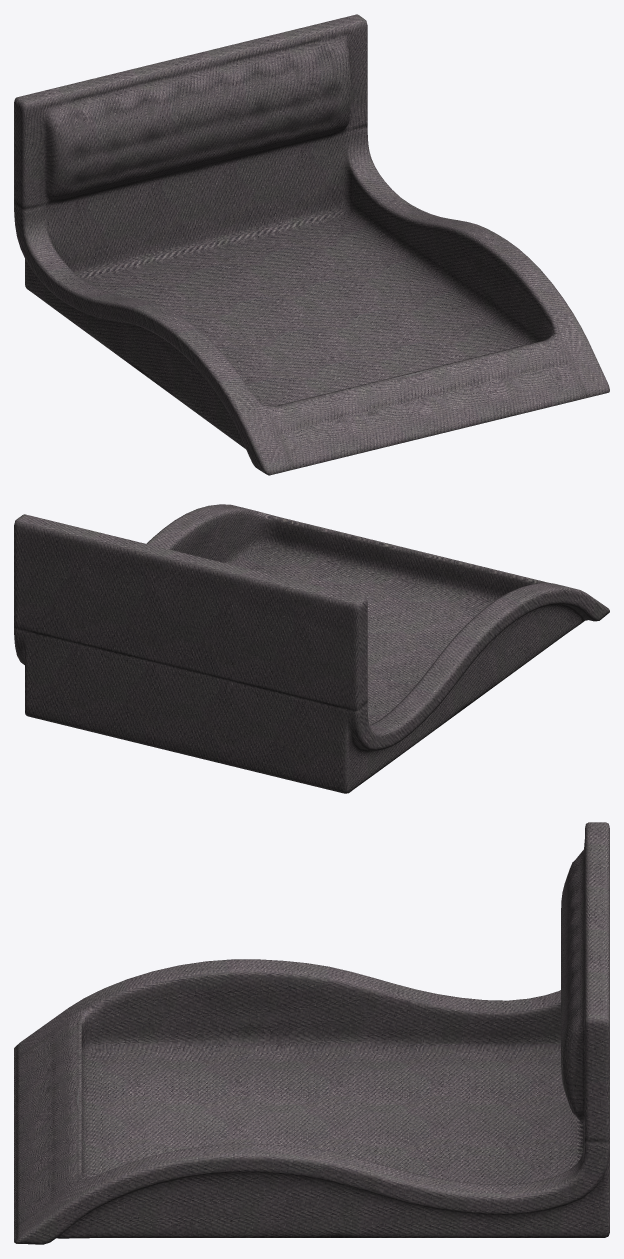
File: bedblack3.obj
3 renders of one model, top to bottom at view 1: azimuth 30°, elevation 25°; view 2: azimuth 150°, elevation 25°; view 3: azimuth 270°, elevation 25°, orthographic. The views are drawn at different scales.
Parts seen in each view (by area): view 1: Line001; view 2: Line001; view 3: Line001.
Boxes of the visible parts, left/top/right/bottom form: Line001: left=14, top=14, right=609, bottom=475; Line001: left=14, top=504, right=609, bottom=793; Line001: left=14, top=822, right=609, bottom=1244.
Bounding box in the file's own units: 140 × 75.3 × 179.
